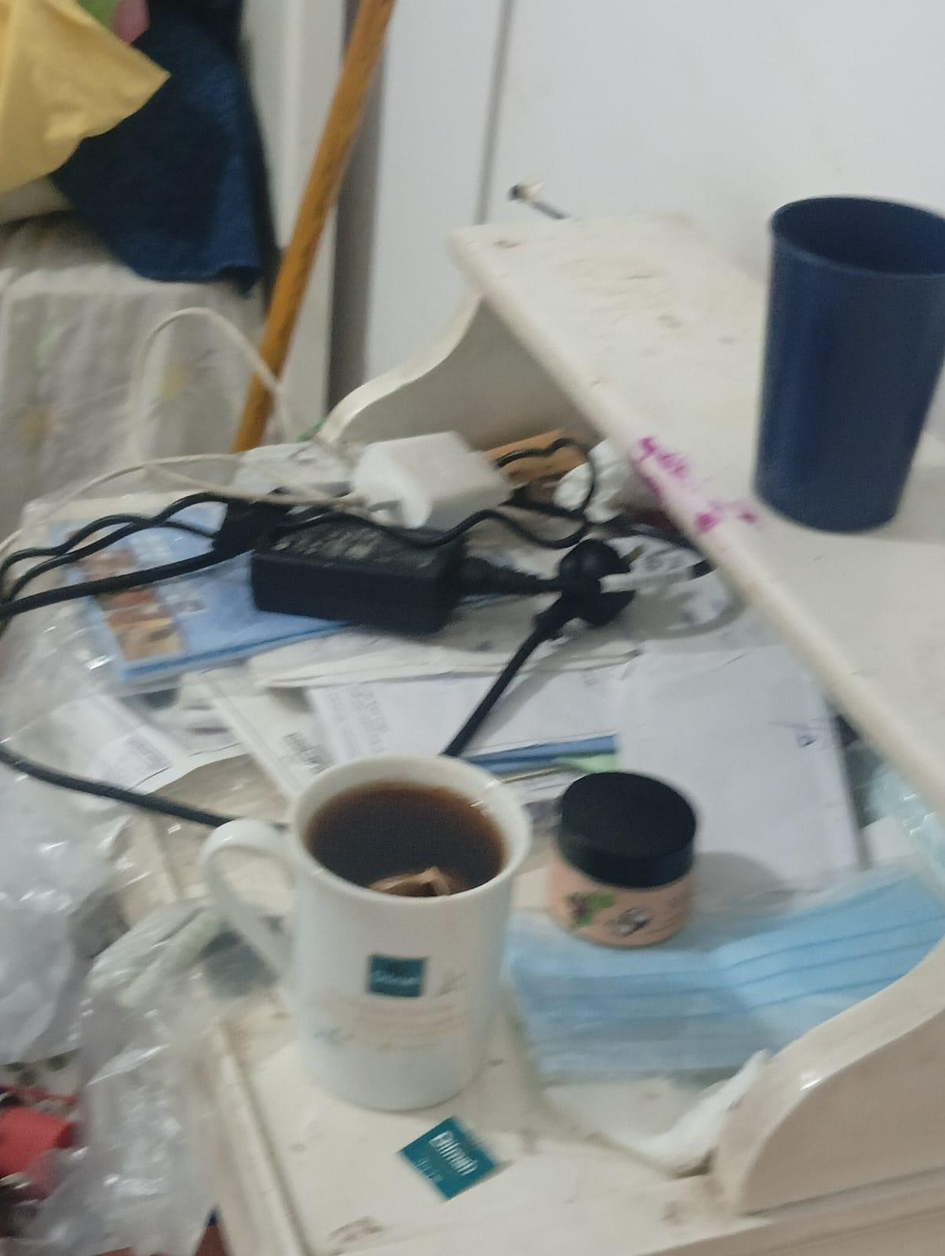cup: (199, 754, 530, 1111), (753, 196, 944, 532), (289, 751, 531, 913), (768, 195, 944, 281)
